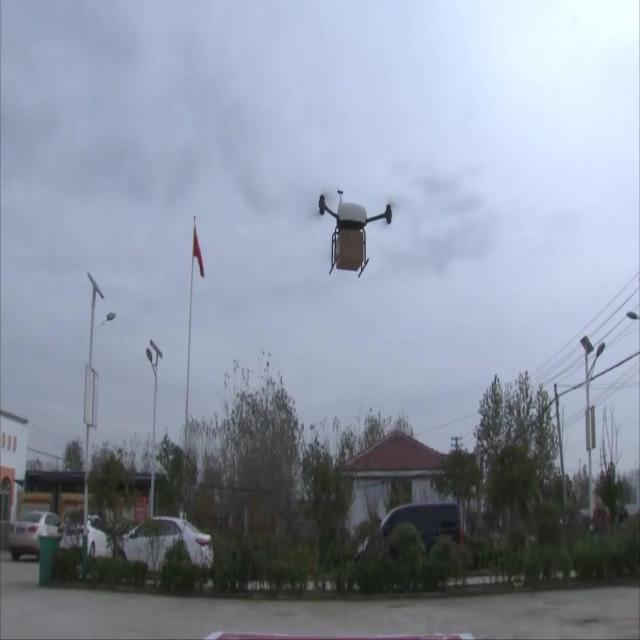drone: (316, 185, 394, 278)
